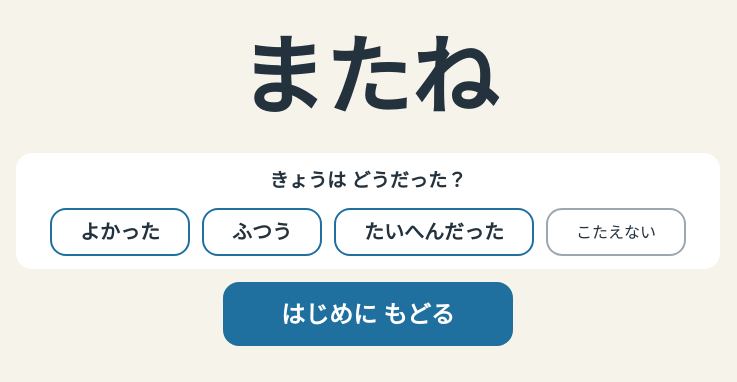
Test: 終了画面（仕様 v0.3 §7） › 保護者設定で自己申告 ON のとき、3択＋こたえないを表示し、回答をセッション記録へ保存する
This screenshot has width=737, height=382.
Expected: the heading "きょうは どうだった？" is shown, [270,166,466,194]
Expected: the button "ふつう" is shown, [202,208,322,256]
Click the button "よかった" at [120, 232], box [50,208,190,256]
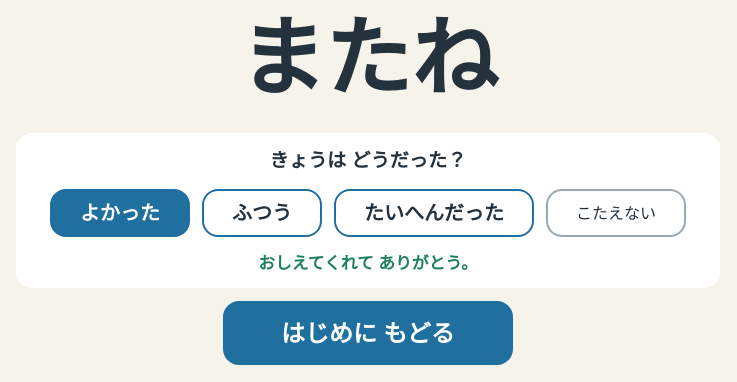
Expected: the message shows "ありがとう", [258,251,478,274]
